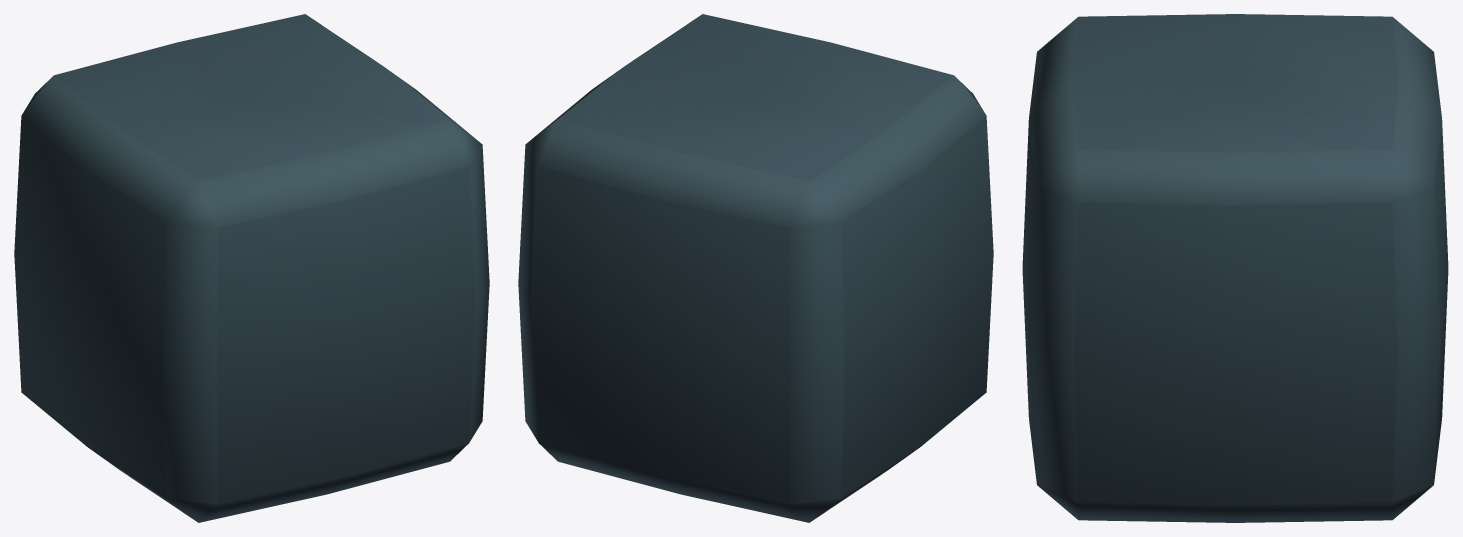
The model's file is cube_01_shade_5_LOD_setup.fbx.
3 renders of one model, left to right at view 1: azimuth 30°, elevation 25°; view 2: azimuth 150°, elevation 25°; view 3: azimuth 270°, elevation 25°, orthographic. The views are drawn at different scales.
Visible parts, largest first — view 1: cube_01_shade_5_LOD0; view 2: cube_01_shade_5_LOD0; view 3: cube_01_shade_5_LOD0.
Boxes of the visible parts, left/top/right/bottom form: cube_01_shade_5_LOD0: left=14, top=14, right=489, bottom=522; cube_01_shade_5_LOD0: left=518, top=14, right=993, bottom=522; cube_01_shade_5_LOD0: left=1022, top=14, right=1448, bottom=522.
Size of what is drawn, in the model's own units: 57.46 by 55.25 by 57.56.
